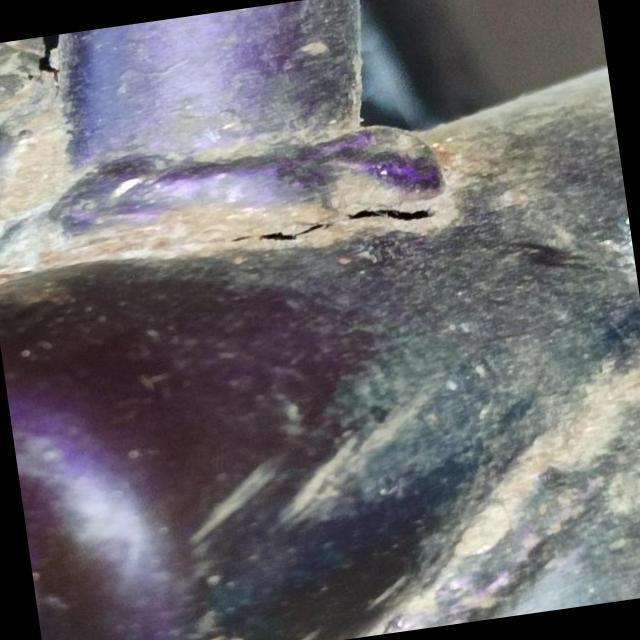defect: (227, 203, 445, 244)
